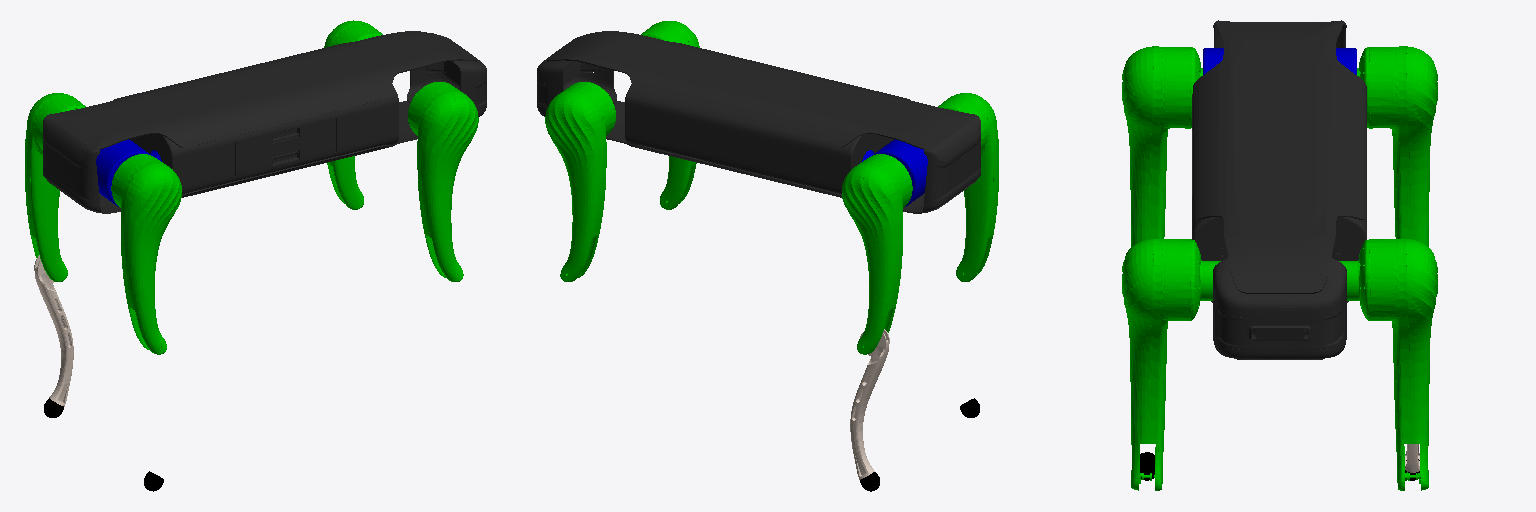
--- Render facts (derived) ---
3 views of the same robot in one strip: view 1: azimuth 30°, elevation 25°; view 2: azimuth 150°, elevation 25°; view 3: azimuth 270°, elevation 25° (orthographic).
Model RobotDog with 19 links and 18 joints (12 revolute, 6 fixed), rooted at base, posed joints at zero except 2 at the middle of their limits (LF_KFE = -2.13, RF_KFE = -2.13).
Visible links, largest first — view 1: base, RF_thigh, RH_thigh, LH_thigh, LF_thigh, LH_calf, RH_hip; view 2: base, LF_thigh, LH_thigh, RH_thigh, RF_thigh, LH_calf, LH_hip; view 3: base, LF_thigh, RF_thigh, LH_thigh, RH_thigh.
Link boxes in pixels (box(x1,y1,x2,y2)): base: box(43, 31, 486, 213); RF_thigh: box(408, 82, 478, 281); RH_thigh: box(111, 154, 181, 354); LH_thigh: box(25, 93, 85, 281); LF_thigh: box(324, 20, 382, 209); LH_calf: box(34, 255, 73, 406); RH_hip: box(96, 139, 161, 206); base: box(537, 31, 980, 213); LF_thigh: box(545, 82, 615, 281); LH_thigh: box(842, 154, 912, 354); RH_thigh: box(938, 93, 998, 281); RF_thigh: box(641, 21, 699, 209); LH_calf: box(850, 329, 889, 479); LH_hip: box(862, 139, 927, 206); base: box(1192, 20, 1366, 359); LF_thigh: box(1339, 239, 1437, 490); RF_thigh: box(1122, 239, 1220, 490); LH_thigh: box(1357, 46, 1437, 246); RH_thigh: box(1122, 46, 1202, 246).
Bounding box of the posed robot: 1.07 × 0.5378 × 0.8267 m (x, y, z).
Meshes: 16 distinct files referenced, 10 mesh visuals loaded (9 binary STL); not drawn: 7 (reference not matched to a file when rendering).

The robot description file, URDF, robot "RobotDog":
<?xml version="1.0" ?>
<!-- =================================================================================== -->
<!-- |    This document was autogenerated by xacro from [local-path]/Bridge_hub/leg_db_ws/src/legged_debugger/legged_examples/legged_base/legged_base_description/urdf/robot_sim.xacro | -->
<!-- |    EDITING THIS FILE BY HAND IS NOT RECOMMENDED                                 | -->
<!-- =================================================================================== -->
<robot name="RobotDog">
  <!-- ros_control plugin -->
  <gazebo>
    <plugin filename="liblegged_hw_sim.so" name="gazebo_ros_control">
      <robotNamespace>/</robotNamespace>
      <robotParam>legged_robot_description</robotParam>
      <robotSimType>legged_gazebo/LeggedHWSim</robotSimType>
    </plugin>
  </gazebo>
  <gazebo>
    <plugin filename="libgazebo_ros_p3d.so" name="p3d_base_controller">
      <alwaysOn>true</alwaysOn>
      <updateRate>500.0</updateRate>
      <bodyName>base</bodyName>
      <topicName>ground_truth/state</topicName>
      <gaussianNoise>0</gaussianNoise>
      <frameName>world</frameName>
      <xyzOffsets>0 0 0</xyzOffsets>
      <rpyOffsets>0 0 0</rpyOffsets>
    </plugin>
  </gazebo>
  <material name="black">
    <color rgba="0.0 0.0 0.0 1.0"/>
  </material>
  <material name="blue">
    <color rgba="0.0 0.0 0.8 1.0"/>
  </material>
  <material name="green">
    <color rgba="0.0 0.8 0.0 1.0"/>
  </material>
  <material name="grey">
    <color rgba="0.2 0.2 0.2 1.0"/>
  </material>
  <material name="silver">
    <color rgba="0.913725490196 0.913725490196 0.847058823529 1.0"/>
  </material>
  <material name="orange">
    <!-- <color rgba="1.0 0.423529411765 0.0392156862745 1.0"/> -->
    <color rgba="0.12 0.15 0.2 1.0"/>
  </material>
  <material name="brown">
    <color rgba="0.870588235294 0.811764705882 0.764705882353 1.0"/>
  </material>
  <material name="red">
    <color rgba="0.8 0.0 0.0 1.0"/>
  </material>
  <material name="white">
    <color rgba="1.0 1.0 1.0 1.0"/>
  </material>

  <!-- <link name="odom"/>

  <joint name="odom_joint" type="fixed">
    <parent link="odom"/>
    <child link="base"/>
    <origin rpy="0 0 0" xyz="0 0 0.0"/>
  </joint> -->

  <link name="base">
    <inertial>
      <origin xyz="0.0 0.0 0.0" rpy="0 0 0" />
      <mass value="12.40" />
      <inertia ixx="0.1632" ixy="0.0" ixz="0.0" iyy="0.342653" iyz="0.0" izz="0.39432" />
    </inertial>
    <visual>
      <origin xyz="0 0 0" rpy="0 0 0" />
      <geometry>
        <mesh filename="package://legged_fire_description/meshes/Base.STL" />
      </geometry>
      <!-- <material name="">
        <color rgba="0.79216 0.81961 0.93333 1" />
      </material> -->
      <material name="grey"/>
    </visual>
    <!-- <collision>
      <origin xyz="0.025 0 0" rpy="0 0 0" />
      <geometry>
        <mesh filename="package://legged_fire_description/meshes/Base.STL" />
        <box size="1.075 0.10 0.18"/>
      </geometry>
    </collision> -->
    <collision>
      <origin xyz="0.0 0 0" rpy="0 0 0" />
      <geometry>
        <box size="0.55 0.28 0.18"/>
      </geometry>
    </collision>
    <collision>
      <origin xyz="0.42 0 0" rpy="0 0 0" />
      <geometry>
        <box size="0.25 0.12 0.18"/>
      </geometry>
    </collision>
    <collision>
      <origin xyz="-0.40 0 0" rpy="0 0 0" />
      <geometry>
        <box size="0.20 0.12 0.18"/>
      </geometry>
    </collision>
  </link>
  <joint name="base_imu_joint" type="fixed">
    <origin rpy="0. 0. 0." xyz="0. 0. 0."/>
    <parent link="base"/>
    <child link="base_imu"/>
  </joint>
  <gazebo reference="base_imu_joint">
    <disableFixedJointLumping>true</disableFixedJointLumping>
  </gazebo>
  <!-- Imu link -->
  <link name="base_imu">
    <inertial>
      <mass value="0.01"/>
      <origin rpy="0 0 0" xyz="0 0 0"/>
      <inertia ixx="0.000001" ixy="0" ixz="0" iyy="0.000001" iyz="0" izz="0.000001"/>
    </inertial>
    <visual>
      <origin rpy="0 0 0" xyz="0 0 0"/>
      <geometry>
        <box size="0.015 0.015 0.004"/>
      </geometry>
    </visual>
    <material name="orange">
      <color rgba="255 108 10 255"/>
    </material>
  </link>
  <joint name="camera_joint" type="fixed">
    <origin xyz="0.55 0 -0.01" rpy="0 0 0" />
    <parent link="base"/>
    <child link="camera"/>
    <origin rpy="0 0 0" xyz="0 0 0.0"/>
  </joint>

  <link name="camera"/>

  <link name="LF_hip">
    <inertial>
      <origin xyz="0.12 0.005 -0.0" rpy="0 0 0" />
      <mass value="2.640" />
      <inertia ixx="0.0049" ixy="0.0" ixz="0.0" iyy="0.0065" iyz="0.0" izz="0.0049" />
    </inertial>
    <visual>
      <origin xyz="0 0 0" rpy="0 0 0" />
      <geometry>
        <mesh filename="package://legged_fire_description/meshes/FL_Hip.STL" />
      </geometry>
      <!-- <material name="">
        <color rgba="0.79216 0.81961 0.93333 1" />
      </material> -->
      <material name="blue"/>
    </visual>
    <!-- <collision>
      <origin xyz="0 0 0" rpy="0 0 0" />
      <geometry>
        <mesh filename="package://legged_fire_description/meshes/LF_HAA.STL" />
      </geometry>
    </collision> -->
  </link>
  <joint name="LF_HAA" type="revolute">
    <origin xyz="0.2655 0.076 0" rpy="0 0 0" />
    <parent link="base" />
    <child link="LF_hip" />
    <axis xyz="1 0 0" />
    <limit lower="-0.5" upper="0.5" effort="80" velocity="8" />
  </joint>
  <link name="LF_thigh">
    <inertial>
      <origin xyz="-0.0 0.11 -0.16" rpy="0 0 0" />
      <mass value="4.170" />
      <inertia ixx="0.071" ixy="0.0" ixz="0.0" iyy="0.077" iyz="0.0" izz="0.0081" />
    </inertial>
    <visual>
      <origin xyz="0 0 0" rpy="0 0 0" />
      <geometry>
        <mesh filename="package://legged_fire_description/meshes/FL_Thigh.STL" />
      </geometry>
      <!-- <material name="">
        <color rgba="0.79216 0.81961 0.93333 1" />
      </material> -->
      <material name="green"/>
    </visual>
    <collision>
      <origin xyz="0 0.11 0" rpy="1.57 0 0" />
      <geometry>
        <cylinder length="0.12" radius="0.07"/>
      </geometry>
    </collision>
    <collision>
      <origin xyz="-0.035 0.14 -0.16" rpy="0 0 0" />
      <geometry>
        <box size="0.055 0.06 0.20"/>
      </geometry>
    </collision>
    <collision>
      <origin xyz="-0.017 0.14 -0.325" rpy="0 -0.40 0" />
      <geometry>
        <box size="0.030 0.06 0.13"/>
      </geometry>
    </collision>
  </link>
  <joint name="LF_HFE" type="revolute">
    <origin xyz="0.121 0.013 0" rpy="0 0 0" />
    <parent link="LF_hip" />
    <child link="LF_thigh" />
    <axis xyz="0 1 0" />
    <limit lower="-3.14" upper="3.14" effort="80" velocity="8" />
  </joint>
  <link name="LF_calf">
    <inertial>
      <origin xyz="0.0 0.0225 -0.16" rpy="0 0 0" />
      <mass value="0.715" />
      <inertia ixx="0.0062" ixy="0.0" ixz="0.0" iyy="0.0062" iyz="0.0" izz="0.000133" />
    </inertial>
    <visual>
      <origin xyz="0 0 0" rpy="0 0 0" />
      <geometry>
        <mesh filename="package://legged_fire_description/meshes/LF_Knee.STL" />
      </geometry>
      <!-- <material name="">
        <color rgba="0.79216 0.81961 0.93333 1" />
      </material> -->
      <material name="brown"/>
    </visual>
    <!-- <collision>
      <origin xyz="-0.01 0.02 -0.07" rpy="0 -0.40 0" />
      <geometry>
        <box size="0.02 0.04 0.18"/>
      </geometry>
    </collision> -->
    <collision>
      <origin xyz="0.03 0.02 -0.23" rpy="0 0 0" />
      <geometry>
        <box size="0.02 0.04 0.10"/>
      </geometry>
    </collision>
  </link>
  <joint name="LF_KFE" type="revolute">
    <origin xyz="0 0.11514 -0.36702" rpy="0 0 0" />
    <parent link="LF_thigh" />
    <child link="LF_calf" />
    <axis xyz="0 1 0" />
    <limit lower="-2.7" upper="-1.57" effort="80" velocity="8" />
  </joint>
  <link name="LF_FOOT">
    <inertial>
      <origin xyz="-0.012 0.0 -0.0175" rpy="0 0.62 0" />
      <mass value="0.05" />
      <inertia ixx="0.000008" ixy="0.0" ixz="0.0" iyy="0.000008" iyz="0.0" izz="0.000008" />
    </inertial>
    <visual>
      <origin xyz="0 0 0" rpy="0 0.62 0" />
      <geometry>
        <mesh filename="package://legged_fire_description/meshes/LF_Ankle.STL" />
      </geometry>
      <!-- <material name="">
        <color rgba="0 0 0 1" />
      </material> -->
      <material name="black"/>
    </visual>
    <!-- <collision>
      <origin xyz="0 0 0" rpy="0 0 0" />
      <geometry>
        <mesh filename="package://legged_fire_description/meshes/LF_Ankle.STL" />
      </geometry>
    </collision> -->
    <collision>
      <origin xyz="-0.010 0 -0.017" rpy="0 0 0" />
      <geometry>
        <sphere radius="0.022"/>
      </geometry>
    </collision>
  </link>
  <joint name="LF_fixed" type="fixed" dont_collapse="true">
    <origin xyz="0.0051604 0.021519 -0.33117" rpy="0 0 0" />
    <parent link="LF_calf" />
    <child link="LF_FOOT" />
    <axis xyz="0 0 0" />
  </joint>

  <link name="RF_hip">
    <inertial>
      <origin xyz="0.12 -0.005 0.0" rpy="0 0 0" />
      <mass value="2.640" />
      <inertia ixx="0.0049" ixy="0.0" ixz="0.0" iyy="0.0065" iyz="0.0" izz="0.0049" />
    </inertial>
    <visual>
      <origin xyz="0 0 0" rpy="0 0 0" />
      <geometry>
        <mesh filename="package://legged_fire_description/meshes/FR_Hip.STL" />
      </geometry>
      <!-- <material name="">
        <color rgba="0.79216 0.81961 0.93333 1" />
      </material> -->
      <material name="blue"/>
    </visual>
    <!-- <collision>
      <origin xyz="0 0 0" rpy="0 0 0" />
      <geometry>
        <mesh filename="package://legged_fire_description/meshes/RF_HAA.STL" />
      </geometry>
    </collision> -->
  </link>
  <joint name="RF_HAA" type="revolute">
    <origin xyz="0.2655 -0.076 0" rpy="0 0 0" />
    <parent link="base" />
    <child link="RF_hip" />
    <axis xyz="1 0 0" />
    <limit lower="-0.5" upper="0.5" effort="80" velocity="8" />
  </joint>
  <link name="RF_thigh">
    <inertial>
      <origin xyz="-0.0 -0.11 -0.16" rpy="0 0 0" />
      <mass value="4.170" />
      <inertia ixx="0.071" ixy="0.0" ixz="0.0" iyy="0.077" iyz="0.0" izz="0.0081" />
    </inertial>
    <visual>
      <origin xyz="0 0 0" rpy="0 0 0" />
      <geometry>
        <mesh filename="package://legged_fire_description/meshes/HR_Thigh.STL" />
      </geometry>
      <!-- <material name="">
        <color rgba="0.79216 0.81961 0.93333 1" />
      </material> -->
      <material name="green"/>
    </visual>
    <collision>
      <origin xyz="0 -0.11 0" rpy="1.57 0 0" />
      <geometry>
        <cylinder length="0.12" radius="0.07"/>
      </geometry>
    </collision>
    <collision>
      <origin xyz="-0.035 -0.14 -0.16" rpy="0 0 0" />
      <geometry>
        <box size="0.055 0.06 0.20"/>
      </geometry>
    </collision>
    <collision>
      <origin xyz="-0.017 -0.14 -0.325" rpy="0 -0.40 0" />
      <geometry>
        <box size="0.030 0.06 0.13"/>
      </geometry>
    </collision>
  </link>
  <joint name="RF_HFE" type="revolute">
    <origin xyz="0.121 -0.013 0" rpy="0 0 0" />
    <parent link="RF_hip" />
    <child link="RF_thigh" />
    <axis xyz="0 1 0" />
    <limit lower="-3.14" upper="3.14" effort="80" velocity="8" />
  </joint>
  <link name="RF_calf">
    <inertial>
      <origin xyz="0.0 -0.0225 -0.16" rpy="0 0 0" />
      <mass value="0.715" />
      <inertia ixx="0.0062" ixy="0.0" ixz="0.0" iyy="0.0062" iyz="0.0" izz="0.000133" />
    </inertial>
    <visual>
      <origin xyz="0 0 0" rpy="0 0 0" />
      <geometry>
        <mesh filename="package://legged_fire_description/meshes/RF_Knee.STL" />
      </geometry>
      <!-- <material name="">
        <color rgba="0.79216 0.81961 0.93333 1" />
      </material> -->
      <material name="brown"/>
    </visual>
    <!-- <collision>
      <origin xyz="0 0 0" rpy="0 0 0" />
      <geometry>
        <mesh filename="package://legged_fire_description/meshes/RF_Knee.STL" />
      </geometry>
    </collision> -->
    <!-- <collision>
      <origin xyz="-0.01 -0.02 -0.07" rpy="0 -0.40 0" />
      <geometry>
        <box size="0.02 0.04 0.18"/>
      </geometry>
    </collision> -->
    <collision>
      <origin xyz="0.03 -0.02 -0.23" rpy="0 0 0" />
      <geometry>
        <box size="0.02 0.04 0.10"/>
      </geometry>
    </collision>
  </link>
  <joint name="RF_KFE" type="revolute">
    <origin xyz="0.0 -0.11514 -0.36702" rpy="0 0 0" />
    <parent link="RF_thigh" />
    <child link="RF_calf" />
    <axis xyz="0 1 0" />
    <limit lower="-2.7" upper="-1.57" effort="80" velocity="8" />
  </joint>
  <link name="RF_FOOT">
    <inertial>
      <origin xyz="-0.012 0.0 -0.0175" rpy="0 0.62 0" />
      <mass value="0.05" />
      <inertia ixx="0.000008" ixy="0.0" ixz="0.0" iyy="0.000008" iyz="0.0" izz="0.000008" />
    </inertial>
    <visual>
      <origin xyz="0 0 0" rpy="0 0.62 0" />
      <geometry>
        <mesh filename="package://legged_fire_description/meshes/RF_Ankle.STL" />
      </geometry>
      <!-- <material name="">
        <color rgba="0 0 0 1" />
      </material> -->
      <material name="black"/>
    </visual>
    <!-- <collision>
      <origin xyz="0 0 0" rpy="0 0 0" />
      <geometry>
        <mesh filename="package://legged_fire_description/meshes/RF_Ankle.STL" />
      </geometry>
    </collision> -->
    <collision>
      <origin xyz="-0.010 0 -0.017" rpy="0 0 0" />
      <geometry>
        <sphere radius="0.022"/>
      </geometry>
    </collision>
  </link>
  <joint name="RF_fixed" type="fixed" dont_collapse="true">
    <origin xyz="0.0051604 -0.021519 -0.33117" rpy="0 0 0" />
    <parent link="RF_calf" />
    <child link="RF_FOOT" />
    <axis xyz="0 0 0" />
  </joint>
  <link name="LH_hip">
    <inertial>
      <origin xyz="-0.12 0.005 -0.0" rpy="0 0 0" />
      <mass value="2.640" />
      <inertia ixx="0.0049" ixy="0.0" ixz="0.0" iyy="0.0065" iyz="0.0" izz="0.0049" />
    </inertial>
    <visual>
      <origin xyz="0 0 0" rpy="0 0 0" />
      <geometry>
        <mesh filename="package://legged_fire_description/meshes/HL_Hip.STL" />
      </geometry>
      <!-- <material name="">
        <color rgba="0.79216 0.81961 0.93333 1" />
      </material> -->
      <material name="blue"/>
    </visual>
    <!-- <collision>
      <origin xyz="0 0 0" rpy="0 0 0" />
      <geometry>
        <mesh filename="package://legged_fire_description/meshes/HL_HAA.STL" />
      </geometry>
    </collision> -->
  </link>
  <joint name="LH_HAA" type="revolute">
    <origin xyz="-0.2655 0.076 0" rpy="0 0 0" />
    <parent link="base" />
    <child link="LH_hip" />
    <axis xyz="1 0 0" />
    <limit lower="-0.5" upper="0.5" effort="80" velocity="8" />
  </joint>
  <link name="LH_thigh">
    <inertial>
      <origin xyz="-0.0 0.11 -0.16" rpy="0 0 0" />
      <mass value="4.170" />
      <inertia ixx="0.071" ixy="0.0" ixz="0.0" iyy="0.077" iyz="0.0" izz="0.0081" />
    </inertial>
    <visual>
      <origin xyz="0 0 0" rpy="0 0 0" />
      <geometry>
        <mesh filename="package://legged_fire_description/meshes/HL_Thigh.STL" />
      </geometry>
      <!-- <material name="">
        <color rgba="0.79216 0.81961 0.93333 1" />
      </material> -->
      <material name="green"/>
    </visual>
    <collision>
      <origin xyz="0 0.11 0" rpy="1.57 0 0" />
      <geometry>
        <cylinder length="0.12" radius="0.07"/>
      </geometry>
    </collision>
    <collision>
      <origin xyz="-0.035 0.14 -0.16" rpy="0 0 0" />
      <geometry>
        <box size="0.055 0.06 0.20"/>
      </geometry>
    </collision>
    <collision>
      <origin xyz="-0.017 0.14 -0.325" rpy="0 -0.40 0" />
      <geometry>
        <box size="0.030 0.06 0.13"/>
      </geometry>
    </collision>
  </link>
  <joint name="LH_HFE" type="revolute">
    <origin xyz="-0.121 0.013 0" rpy="0 0 0" />
    <parent link="LH_hip" />
    <child link="LH_thigh" />
    <axis xyz="0 1 0" />
    <limit lower="-3.14" upper="3.14" effort="80" velocity="8" />
  </joint>
  <link name="LH_calf">
    <inertial>
      <origin xyz="0.0 0.0225 -0.16" rpy="0 0 0" />
      <mass value="0.715" />
      <inertia ixx="0.0062" ixy="0.0" ixz="0.0" iyy="0.0062" iyz="0.0" izz="0.000133" />
    </inertial>
    <visual>
      <origin xyz="0 0 0" rpy="0 0 0" />
      <geometry>
        <mesh filename="package://legged_fire_description/meshes/HL_Knee.STL" />
      </geometry>
      <!-- <material name="">
        <color rgba="0.79216 0.81961 0.93333 1" />
      </material> -->
      <material name="brown"/>
    </visual>
    <!-- <collision>
      <origin xyz="0 0 0" rpy="0 0 0" />
      <geometry>
        <mesh filename="package://legged_fire_description/meshes/HL_Knee.STL" />
      </geometry>
    </collision> -->
    <!-- <collision>
      <origin xyz="-0.01 0.02 -0.07" rpy="0 -0.40 0" />
      <geometry>
        <box size="0.02 0.04 0.18"/>
      </geometry>
    </collision> -->
    <collision>
      <origin xyz="0.03 0.02 -0.23" rpy="0 0 0" />
      <geometry>
        <box size="0.02 0.04 0.10"/>
      </geometry>
    </collision>
  </link>
  <joint name="LH_KFE" type="revolute">
    <origin xyz="0 0.11514 -0.36702" rpy="0 0 0" />
    <parent link="LH_thigh" />
    <child link="LH_calf" />
    <axis xyz="0 1 0" />
    <limit effort="80.0" lower="-2.818" upper="0" velocity="20.06"/>
  </joint>
  <link name="LH_FOOT">
    <inertial>
      <origin xyz="-0.012 0.0 -0.0175" rpy="0 0.62 0" />
      <mass value="0.05" />
      <inertia ixx="0.000008" ixy="0.0" ixz="0.0" iyy="0.000008" iyz="0.0" izz="0.000008" />
    </inertial>
    <visual>
      <origin xyz="0 0 0" rpy="0 0.62 0" />
      <geometry>
        <mesh filename="package://legged_fire_description/meshes/HL_Ankle.STL" />
      </geometry>
      <!-- <material name="">
        <color rgba="0 0 0 1" />
      </material> -->
      <material name="black"/>
    </visual>
    <!-- <collision>
      <origin xyz="0 0 0" rpy="0 0 0" />
      <geometry>
        <mesh filename="package://legged_fire_description/meshes/HL_Ankle.STL" />
      </geometry>
    </collision> -->
    <collision>
      <origin xyz="-0.010 0 -0.017" rpy="0 0 0" />
      <geometry>
        <sphere radius="0.022"/>
      </geometry>
    </collision>
  </link>
  <joint name="LH_fixed" type="fixed" dont_collapse="true">
    <origin xyz="0.0051604 0.021519 -0.33117" rpy="0 0 0" />
    <parent link="LH_calf" />
    <child link="LH_FOOT" />
    <axis xyz="0 0 0" />
  </joint>
  <link name="RH_hip">
    <inertial>
      <origin xyz="-0.12 -0.005 -0.0" rpy="0 0 0" />
      <mass value="2.640" />
      <inertia ixx="0.0049" ixy="0.0" ixz="0.0" iyy="0.0065" iyz="0.0" izz="0.0049" />
    </inertial>
    <visual>
      <origin xyz="0 0 0" rpy="0 0 0" />
      <geometry>
        <mesh filename="package://legged_fire_description/meshes/HR_Hip.STL" />
      </geometry>
      <!-- <material name="">
        <color rgba="0.79216 0.81961 0.93333 1" />
      </material> -->
      <material name="blue"/>
    </visual>
    <!-- <collision>
      <origin xyz="0 0 0" rpy="0 0 0" />
      <geometry>
        <mesh filename="package://legged_fire_description/meshes/HR_HAA.STL" />
      </geometry>
    </collision> -->
  </link>
  <joint name="RH_HAA" type="revolute">
    <origin xyz="-0.2655 -0.076 0" rpy="0 0 0" />
    <parent link="base" />
    <child link="RH_hip" />
    <axis xyz="1 0 0" />
    <limit lower="-0.5" upper="0.5" effort="80" velocity="8" />
  </joint>
  <link name="RH_thigh">
    <inertial>
      <origin xyz="-0.0 -0.11 -0.16" rpy="0 0 0" />
      <mass value="4.170" />
      <inertia ixx="0.071" ixy="0.0" ixz="0.0" iyy="0.077" iyz="0.0" izz="0.0081" />
    </inertial>
    <visual>
      <origin xyz="0 0 0" rpy="0 0 0" />
      <geometry>
        <mesh filename="package://legged_fire_description/meshes/HR_Thigh.STL" />
      </geometry>
      <!-- <material name="">
        <color rgba="0.79216 0.81961 0.93333 1" />
      </material> -->
      <material name="green"/>
    </visual>
    <collision>
      <origin xyz="0 -0.11 0" rpy="1.57 0 0" />
      <geometry>
        <cylinder length="0.12" radius="0.07"/>
      </geometry>
    </collision>
    <collision>
      <origin xyz="-0.035 -0.14 -0.16" rpy="0 0 0" />
      <geometry>
        <box size="0.055 0.06 0.20"/>
      </geometry>
    </collision>
    <collision>
      <origin xyz="-0.017 -0.14 -0.325" rpy="0 -0.40 0" />
      <geometry>
        <box size="0.030 0.06 0.13"/>
      </geometry>
    </collision>
  </link>
  <joint name="RH_HFE" type="revolute">
    <origin xyz="-0.121 -0.013 0" rpy="0 0 0" />
    <parent link="RH_hip" />
    <child link="RH_thigh" />
    <axis xyz="0 1 0" />
    <limit lower="-3.14" upper="3.14" effort="80" velocity="8" />
  </joint>
  <link name="RH_calf">
    <inertial>
      <origin xyz="0.0 -0.0225 -0.16" rpy="0 0 0" />
      <mass value="0.715" />
      <inertia ixx="0.0062" ixy="0.0" ixz="0.0" iyy="0.0062" iyz="0.0" izz="0.000133" />
    </inertial>
    <visual>
      <origin xyz="0 0 0" rpy="0 0 0" />
      <geometry>
        <mesh filename="package://legged_fire_description/meshes/HR_Knee.STL" />
      </geometry>
      <!-- <material name="">
        <color rgba="0.79216 0.81961 0.93333 1" />
      </material> -->
      <material name="brown"/>
    </visual>
    <!-- <collision>
      <origin xyz="0 0 0" rpy="0 0 0" />
      <geometry>
        <mesh filename="package://legged_fire_description/meshes/HR_Knee.STL" />
      </geometry>
    </collision> -->
    <!-- <collision>
      <origin xyz="-0.01 -0.02 -0.07" rpy="0 -0.40 0" />
      <geometry>
        <box size="0.02 0.04 0.18"/>
      </geometry>
    </collision> -->
    <collision>
      <origin xyz="0.03 -0.02 -0.23" rpy="0 0 0" />
      <geometry>
        <box size="0.02 0.04 0.10"/>
      </geometry>
    </collision>
  </link>
  <joint name="RH_KFE" type="revolute">
    <origin xyz="0 -0.11514 -0.36702" rpy="0 0 0" />
    <parent link="RH_thigh" />
    <child link="RH_calf" />
    <axis xyz="0 1 0" />
    <limit effort="80.0" lower="-2.818" upper="0" velocity="20.06"/>
  </joint>
  <link name="RH_FOOT">
    <inertial>
      <origin xyz="-0.012 0.0 -0.0175" rpy="0 0.62 0" />
      <mass value="0.05" />
      <inertia ixx="0.000008" ixy="0.0" ixz="0.0" iyy="0.000008" iyz="0.0" izz="0.000008" />
    </inertial>
    <visual>
      <origin xyz="0 0 0" rpy="0 0.62 0" />
      <geometry>
        <mesh filename="package://legged_fire_description/meshes/HR_Ankle.STL" />
      </geometry>
      <!-- <material name="">
        <color rgba="0 0 0 1" />
      </material> -->
      <material name="black"/>
    </visual>
    <!-- <collision>
      <origin xyz="0 0 0" rpy="0 0 0" />
      <geometry>
        <mesh filename="package://legged_fire_description/meshes/HR_Ankle.STL" />
      </geometry>
    </collision> -->
    <collision>
      <origin xyz="-0.010 0 -0.017" rpy="0 0 0" />
      <geometry>
        <sphere radius="0.022"/>
      </geometry>
    </collision>
  </link>
  <joint name="RH_fixed" type="fixed" dont_collapse="true">
    <origin xyz="0.0051604 -0.021519 -0.33117" rpy="0 0 0" />
    <parent link="RH_calf" />
    <child link="RH_FOOT" />
    <axis xyz="0 0 0" />
  </joint>
  <transmission name="LF_HAA_tran">
    <type>transmission_interface/SimpleTransmission</type>
    <joint name="LF_HAA">
      <hardwareInterface>hardware_interface/EffortJointInterface</hardwareInterface>
    </joint>
    <actuator name="LF_HAA_motor">
      <hardwareInterface>hardware_interface/EffortJointInterface</hardwareInterface>
      <mechanicalReduction>1</mechanicalReduction>
    </actuator>
  </transmission>
  <transmission name="LF_HFE_tran">
    <type>transmission_interface/SimpleTransmission</type>
    <joint name="LF_HFE">
      <hardwareInterface>hardware_interface/EffortJointInterface</hardwareInterface>
    </joint>
    <actuator name="LF_HFE_motor">
      <hardwareInterface>hardware_interface/EffortJointInterface</hardwareInterface>
      <mechanicalReduction>1</mechanicalReduction>
    </actuator>
  </transmission>
  <transmission name="LF_KFE_tran">
    <type>transmission_interface/SimpleTransmission</type>
    <joint name="LF_KFE">
      <hardwareInterface>hardware_interface/EffortJointInterface</hardwareInterface>
    </joint>
    <actuator name="LF_KFE_motor">
      <hardwareInterface>hardware_interface/EffortJointInterface</hardwareInterface>
      <mechanicalReduction>1</mechanicalReduction>
    </actuator>
  </transmission>
  <transmission name="LH_HAA_tran">
    <type>transmission_interface/SimpleTransmission</type>
    <joint name="LH_HAA">
      <hardwareInterface>hardware_interface/EffortJointInterface</hardwareInterface>
    </joint>
    <actuator name="LH_HAA_motor">
      <hardwareInterface>hardware_interface/EffortJointInterface</hardwareInterface>
      <mechanicalReduction>1</mechanicalReduction>
    </actuator>
  </transmission>
  <transmission name="LH_HFE_tran">
    <type>transmission_interface/SimpleTransmission</type>
    <joint name="LH_HFE">
      <hardwareInterface>hardware_interface/EffortJointInterface</hardwareInterface>
    </joint>
    <actuator name="LH_HFE_motor">
      <hardwareInterface>hardware_interface/EffortJointInterface</hardwareInterface>
      <mechanicalReduction>1</mechanicalReduction>
    </actuator>
  </transmission>
  <transmission name="LH_KFE_tran">
    <type>transmission_interface/SimpleTransmission</type>
    <joint name="LH_KFE">
      <hardwareInterface>hardware_interface/EffortJointInterface</hardwareInterface>
    </joint>
    <actuator name="LH_KFE_motor">
      <hardwareInterface>hardware_interface/EffortJointInterface</hardwareInterface>
      <mechanicalReduction>1</mechanicalReduction>
    </actuator>
  </transmission>
  <transmission name="RF_HAA_tran">
    <type>transmission_interface/SimpleTransmission</type>
    <joint name="RF_HAA">
      <hardwareInterface>hardware_interface/EffortJointInterface</hardwareInterface>
    </joint>
    <actuator name="RF_HAA_motor">
      <hardwareInterface>hardware_interface/EffortJointInterface</hardwareInterface>
      <mechanicalReduction>1</mechanicalReduction>
    </actuator>
  </transmission>
  <transmission name="RF_HFE_tran">
    <type>transmission_interface/SimpleTransmission</type>
    <joint name="RF_HFE">
      <hardwareInterface>hardware_interface/EffortJointInterface</hardwareInterface>
    </joint>
    <actuator name="RF_HFE_motor">
      <hardwareInterface>hardware_interface/EffortJointInterface</hardwareInterface>
      <mechanicalReduction>1</mechanicalReduction>
    </actuator>
  </transmission>
  <transmission name="RF_KFE_tran">
    <type>transmission_interface/SimpleTransmission</type>
    <joint name="RF_KFE">
      <hardwareInterface>hardware_interface/EffortJointInterface</hardwareInterface>
    </joint>
    <actuator name="RF_KFE_motor">
      <hardwareInterface>hardware_interface/EffortJointInterface</hardwareInterface>
      <mechanicalReduction>1</mechanicalReduction>
    </actuator>
  </transmission>
  <transmission name="RH_HAA_tran">
    <type>transmission_interface/SimpleTransmission</type>
    <joint name="RH_HAA">
      <hardwareInterface>hardware_interface/EffortJointInterface</hardwareInterface>
    </joint>
    <actuator name="RH_HAA_motor">
      <hardwareInterface>hardware_interface/EffortJointInterface</hardwareInterface>
      <mechanicalReduction>1</mechanicalReduction>
    </actuator>
  </transmission>
  <transmission name="RH_HFE_tran">
    <type>transmission_interface/SimpleTransmission</type>
    <joint name="RH_HFE">
      <hardwareInterface>hardware_interface/EffortJointInterface</hardwareInterface>
    </joint>
    <actuator name="RH_HFE_motor">
      <hardwareInterface>hardware_interface/EffortJointInterface</hardwareInterface>
      <mechanicalReduction>1</mechanicalReduction>
    </actuator>
  </transmission>
  <transmission name="RH_KFE_tran">
    <type>transmission_interface/SimpleTransmission</type>
    <joint name="RH_KFE">
      <hardwareInterface>hardware_interface/EffortJointInterface</hardwareInterface>
    </joint>
    <actuator name="RH_KFE_motor">
      <hardwareInterface>hardware_interface/EffortJointInterface</hardwareInterface>
      <mechanicalReduction>1</mechanicalReduction>
    </actuator>
  </transmission>
  <gazebo reference="RH_FOOT">
    <mu1>0.6</mu1>
    <mu2>0.6</mu2>
    <self_collide>1</self_collide>
    <material>Gazebo/DarkGrey</material>
    <kp value="1000000.0"/>
    <kd value="100.0"/>
  </gazebo>
  <gazebo reference="LH_FOOT">
    <mu1>0.6</mu1>
    <mu2>0.6</mu2>
    <self_collide>1</self_collide>
    <material>Gazebo/DarkGrey</material>
    <kp value="1000000.0"/>
    <kd value="100.0"/>
  </gazebo>
  <gazebo reference="RF_FOOT">
    <mu1>0.6</mu1>
    <mu2>0.6</mu2>
    <self_collide>1</self_collide>
    <material>Gazebo/DarkGrey</material>
    <kp value="1000000.0"/>
    <kd value="100.0"/>
  </gazebo>
  <gazebo reference="LF_FOOT">
    <mu1>0.6</mu1>
    <mu2>0.6</mu2>
    <self_collide>1</self_collide>
    <material>Gazebo/DarkGrey</material>
    <kp value="1000000.0"/>
    <kd value="100.0"/>
  </gazebo>
</robot>
